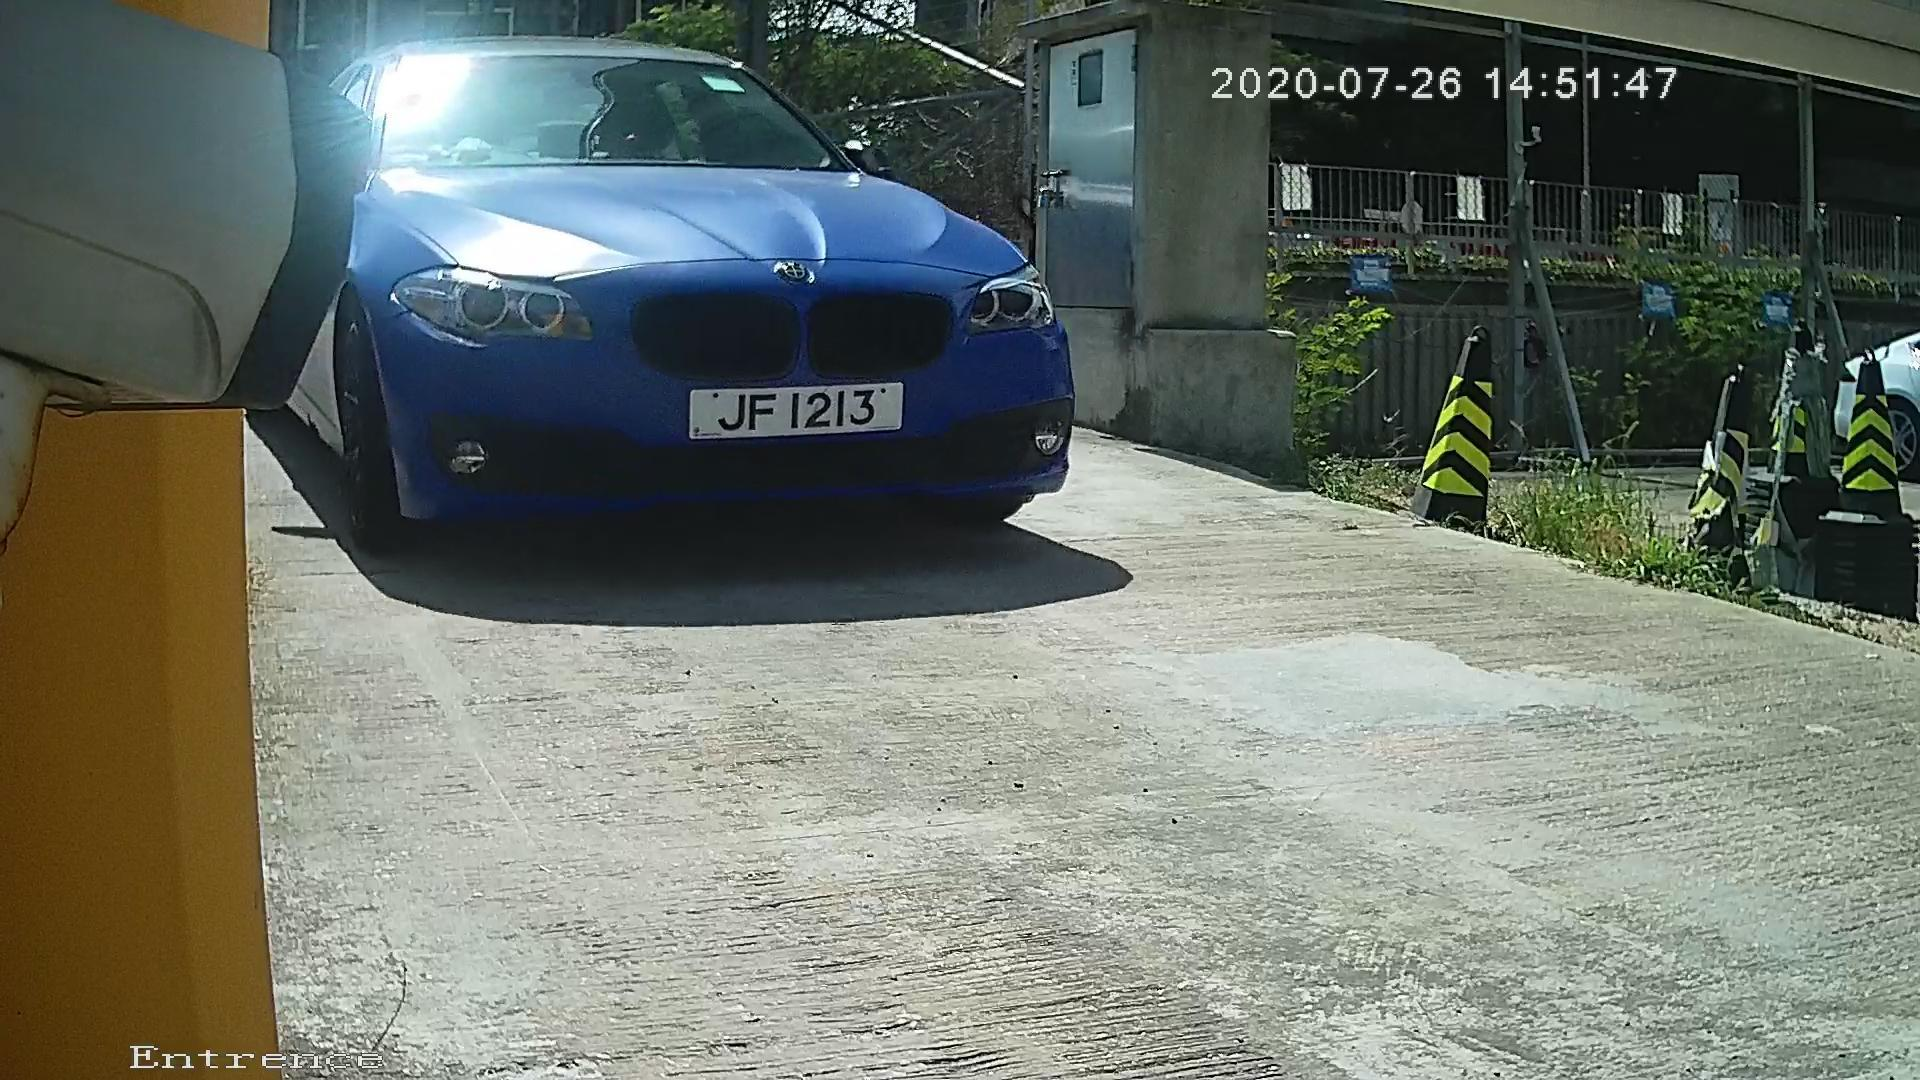privatecar: (249, 25, 1201, 608)
